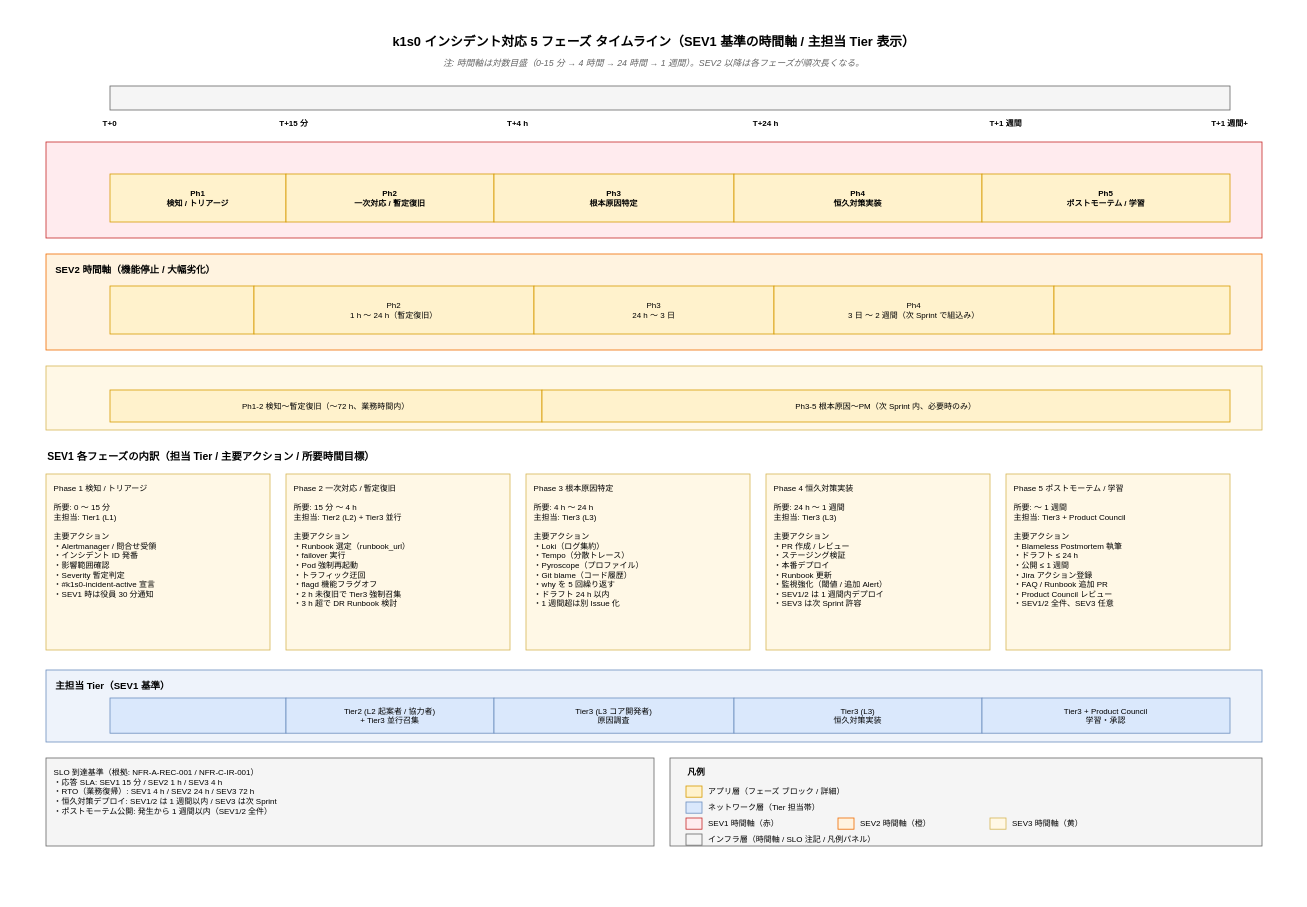
Image size: 1307x907. Some labels were removed from this diagram. Here are the shapes that lost their labels. From the top down, the box of each, then its label:
(109, 85, 1230, 110): 時間軸（対数目盛）
(45, 141, 1262, 238): SEV1 時間軸（全停止 / データ損失 / セキュリティ）
(109, 285, 254, 334): Ph1 〜1 h
(1053, 285, 1230, 334): Ph5 PM（対象、公開 ≤ 1 週）
(45, 365, 1262, 430): SEV3 時間軸（部分機能劣化、業務時間内対応）
(109, 697, 286, 733): Tier1 (L1 受付)
